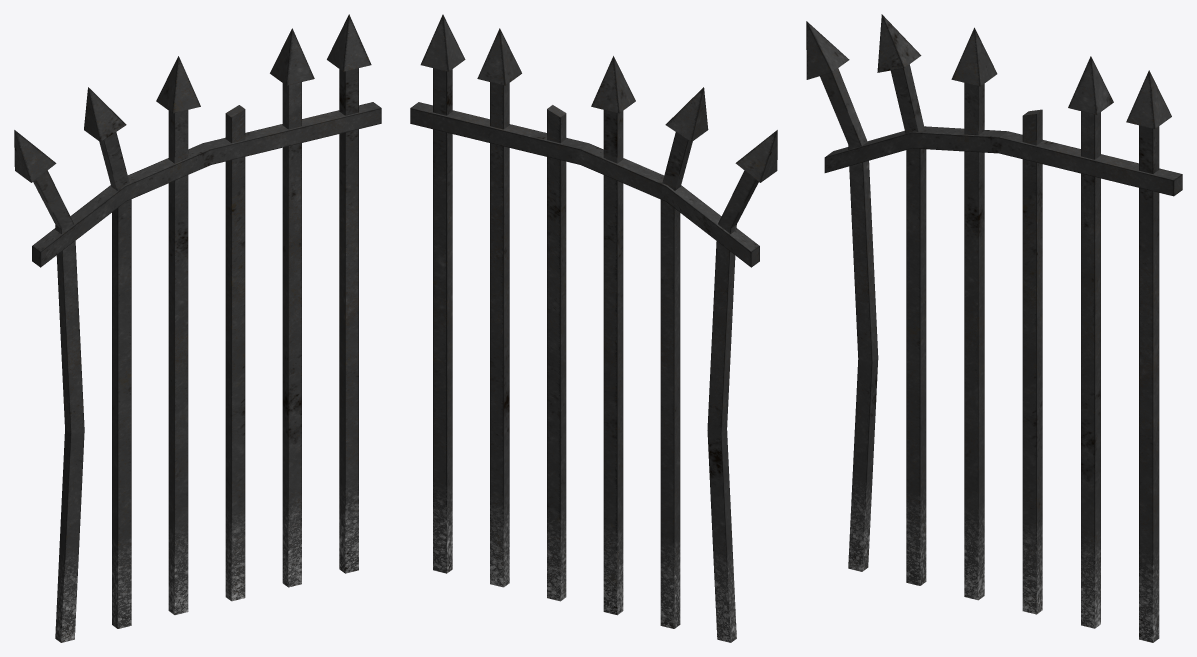
File: Fence1.fbx
3 views of the same model, side by side, from view 1: azimuth 30°, elevation 25°; view 2: azimuth 150°, elevation 25°; view 3: azimuth 330°, elevation 25° (orthographic). The views are drawn at different scales.
Parts seen in each view (by area): view 1: Cube.029; view 2: Cube.029; view 3: Cube.029.
Boxes of the visible parts, bbox=[...] form: Cube.029: bbox=[14, 14, 381, 642]; Cube.029: bbox=[410, 14, 777, 642]; Cube.029: bbox=[806, 14, 1182, 642].
Bounding box in the file's own units: 639 × 934 × 51.6.
